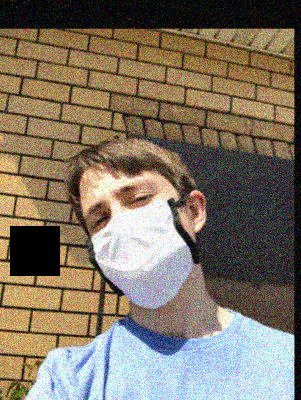with_mask: (78, 177, 205, 308)
